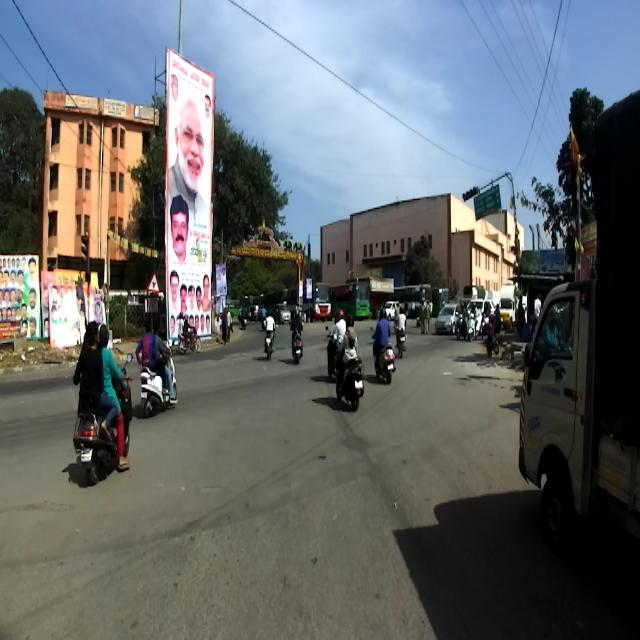motorcycle ahead at: (70, 404, 136, 496), (136, 363, 182, 414)
